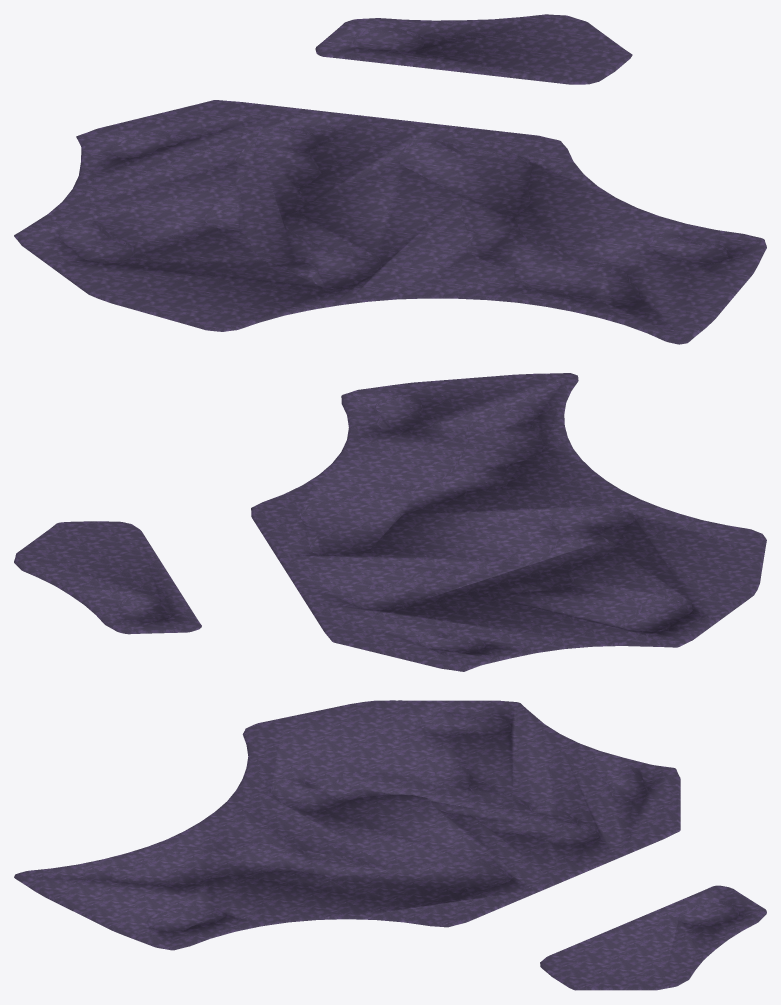
File: obj_ground04.gltf
3 renders of one model, top to bottom at view 1: azimuth 30°, elevation 25°; view 2: azimuth 150°, elevation 25°; view 3: azimuth 270°, elevation 25°, orthographic. The views are drawn at different scales.
Visible parts, largest first — view 1: obj_ground04; view 2: obj_ground04; view 3: obj_ground04.
Boxes of the visible parts, <box> form: obj_ground04: <box>14,14,766,344</box>; obj_ground04: <box>14,373,766,671</box>; obj_ground04: <box>14,700,766,990</box>.
Size of what is drawn, in the model's own units: 47.31 by 0.2253 by 51.99.
Materials: 1 (1 with a texture image).
